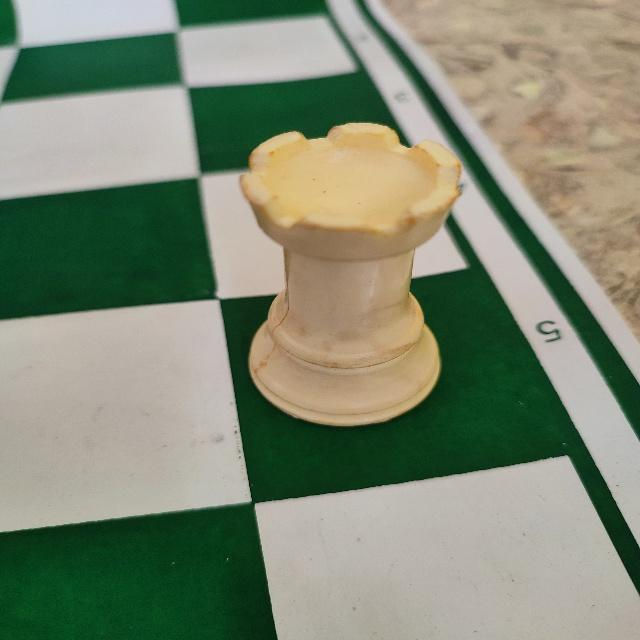Rook: (237, 118, 465, 430)
